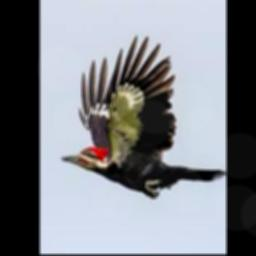Woodpecker: (59, 34, 225, 199)
